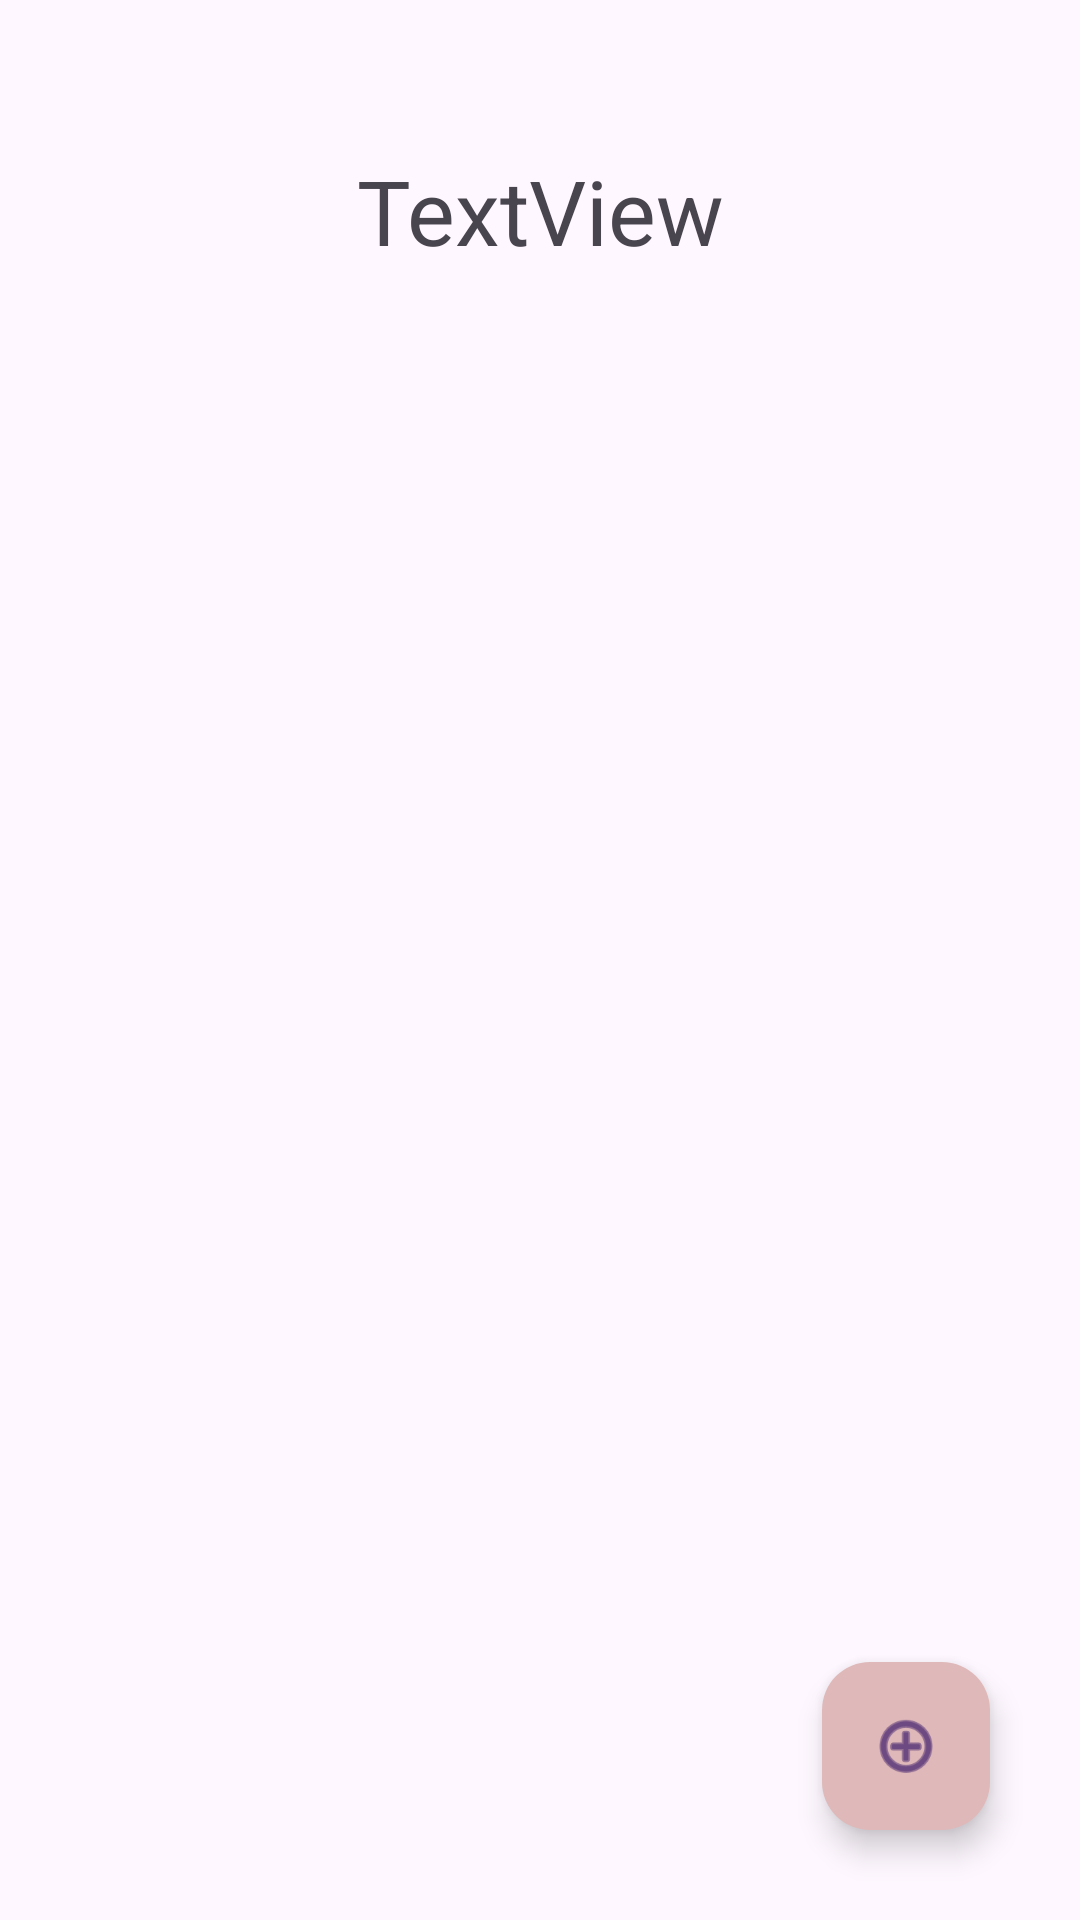

Icon bounding boxes for this 1080 × 1920 phone screenshot, format detection(x1, y1, x2, y2):
Add trip: detection(822, 1662, 990, 1830)
